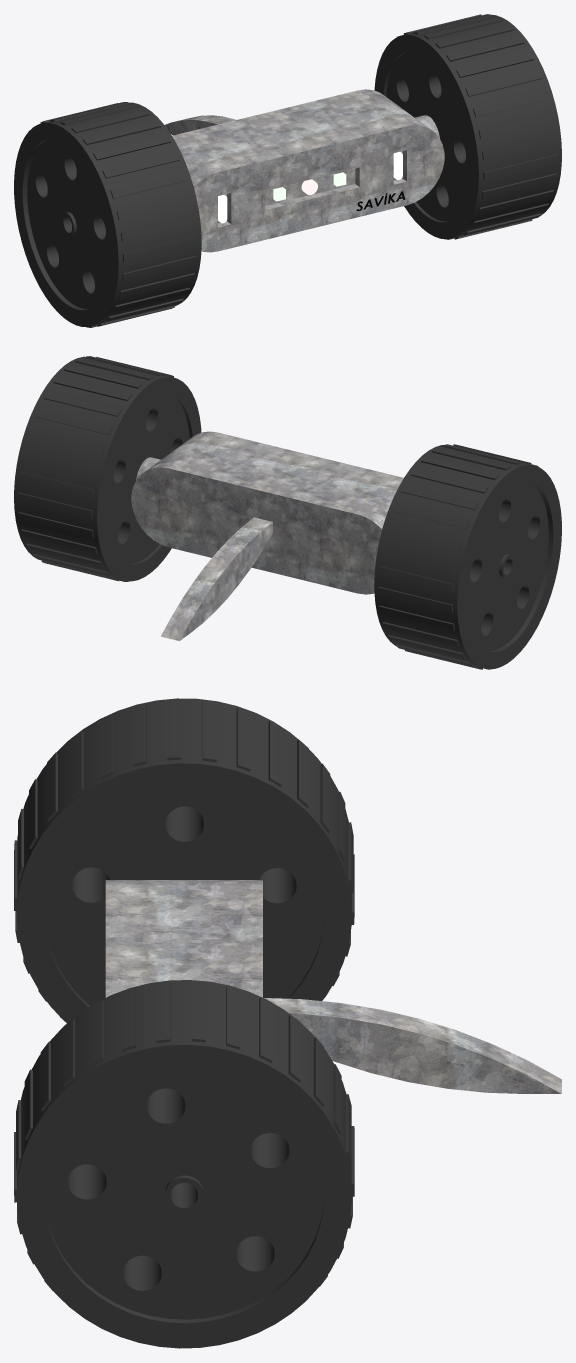
3 views of the same model, one above another, from view 1: azimuth 30°, elevation 25°; view 2: azimuth 150°, elevation 25°; view 3: azimuth 270°, elevation 25° (orthographic). The views are drawn at different scales.
Visible parts, largest first — view 1: Sınıf-Hafif-Tekerlek-1 - Parça, Sınıf-Hafif-Gövde-2 Tekerlekli-1 - Parça, Sınıf-Hafif-Tekerlek-3 - Parça, Sınıf-Hafif-Gövde-2 Tekerlekli-1 - Parça 2; view 2: Sınıf-Hafif-Tekerlek-1 - Parça, Sınıf-Hafif-Gövde-2 Tekerlekli-1 - Parça, Sınıf-Hafif-Tekerlek-3 - Parça; view 3: Sınıf-Hafif-Tekerlek-3 - Parça, Sınıf-Hafif-Tekerlek-1 - Parça, Sınıf-Hafif-Gövde-2 Tekerlekli-1 - Parça.
Boxes of the visible parts, x1,y1,x2,y2 form: Sınıf-Hafif-Tekerlek-1 - Parça: [14, 102, 201, 327]; Sınıf-Hafif-Gövde-2 Tekerlekli-1 - Parça: [164, 89, 444, 252]; Sınıf-Hafif-Tekerlek-3 - Parça: [374, 14, 561, 239]; Sınıf-Hafif-Gövde-2 Tekerlekli-1 - Parça 2: [218, 152, 402, 223]; Sınıf-Hafif-Tekerlek-1 - Parça: [374, 444, 561, 669]; Sınıf-Hafif-Gövde-2 Tekerlekli-1 - Parça: [131, 431, 403, 640]; Sınıf-Hafif-Tekerlek-3 - Parça: [14, 356, 201, 581]; Sınıf-Hafif-Tekerlek-3 - Parça: [14, 980, 354, 1348]; Sınıf-Hafif-Tekerlek-1 - Parça: [14, 698, 354, 1022]; Sınıf-Hafif-Gövde-2 Tekerlekli-1 - Parça: [105, 880, 561, 1093].
Size of the model in its own units: 0.2348 by 0.0976 by 0.1569.
7 materials, 1 textured.
